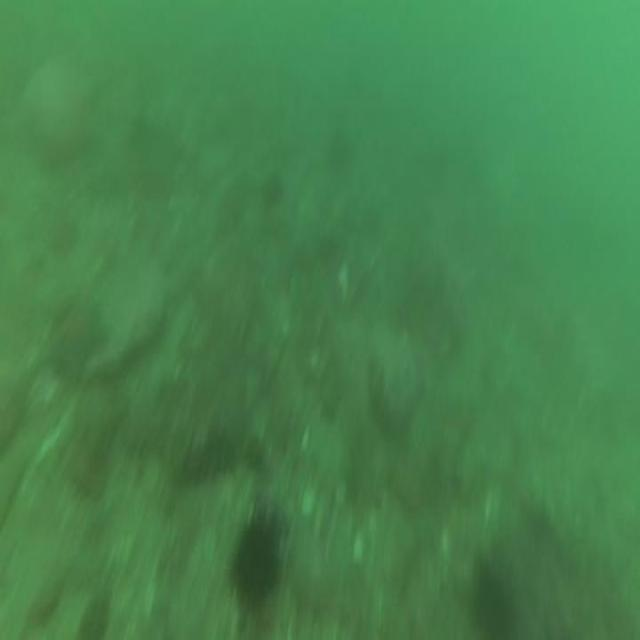echinus: (227, 509, 285, 610), (469, 556, 516, 640), (324, 125, 356, 182), (258, 166, 285, 216)
